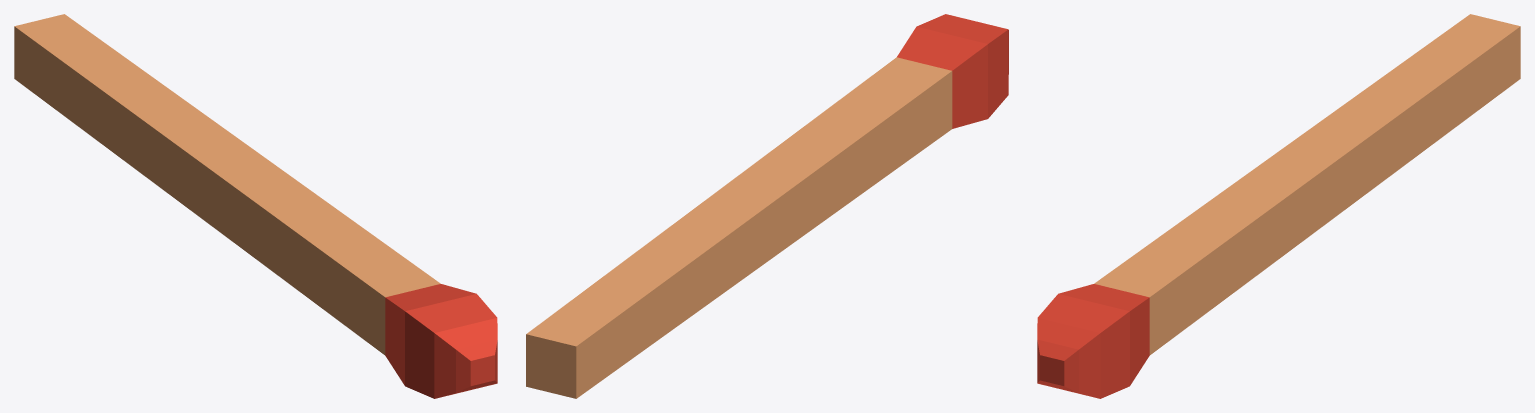
File: matchstick_interactable.fbx
The picture shows the model from 3 angles, left to right: view 1: azimuth 30°, elevation 25°; view 2: azimuth 150°, elevation 25°; view 3: azimuth 330°, elevation 25°; orthographic projection.
Visible parts, largest first — view 1: matchstick_interactable; view 2: matchstick_interactable; view 3: matchstick_interactable.
Boxes of the visible parts, bbox=[...] form: matchstick_interactable: bbox=[14, 14, 497, 398]; matchstick_interactable: bbox=[526, 14, 1008, 398]; matchstick_interactable: bbox=[1037, 14, 1520, 398].
Bounding box in the file's own units: 6.57 × 6.57 × 70.4.
